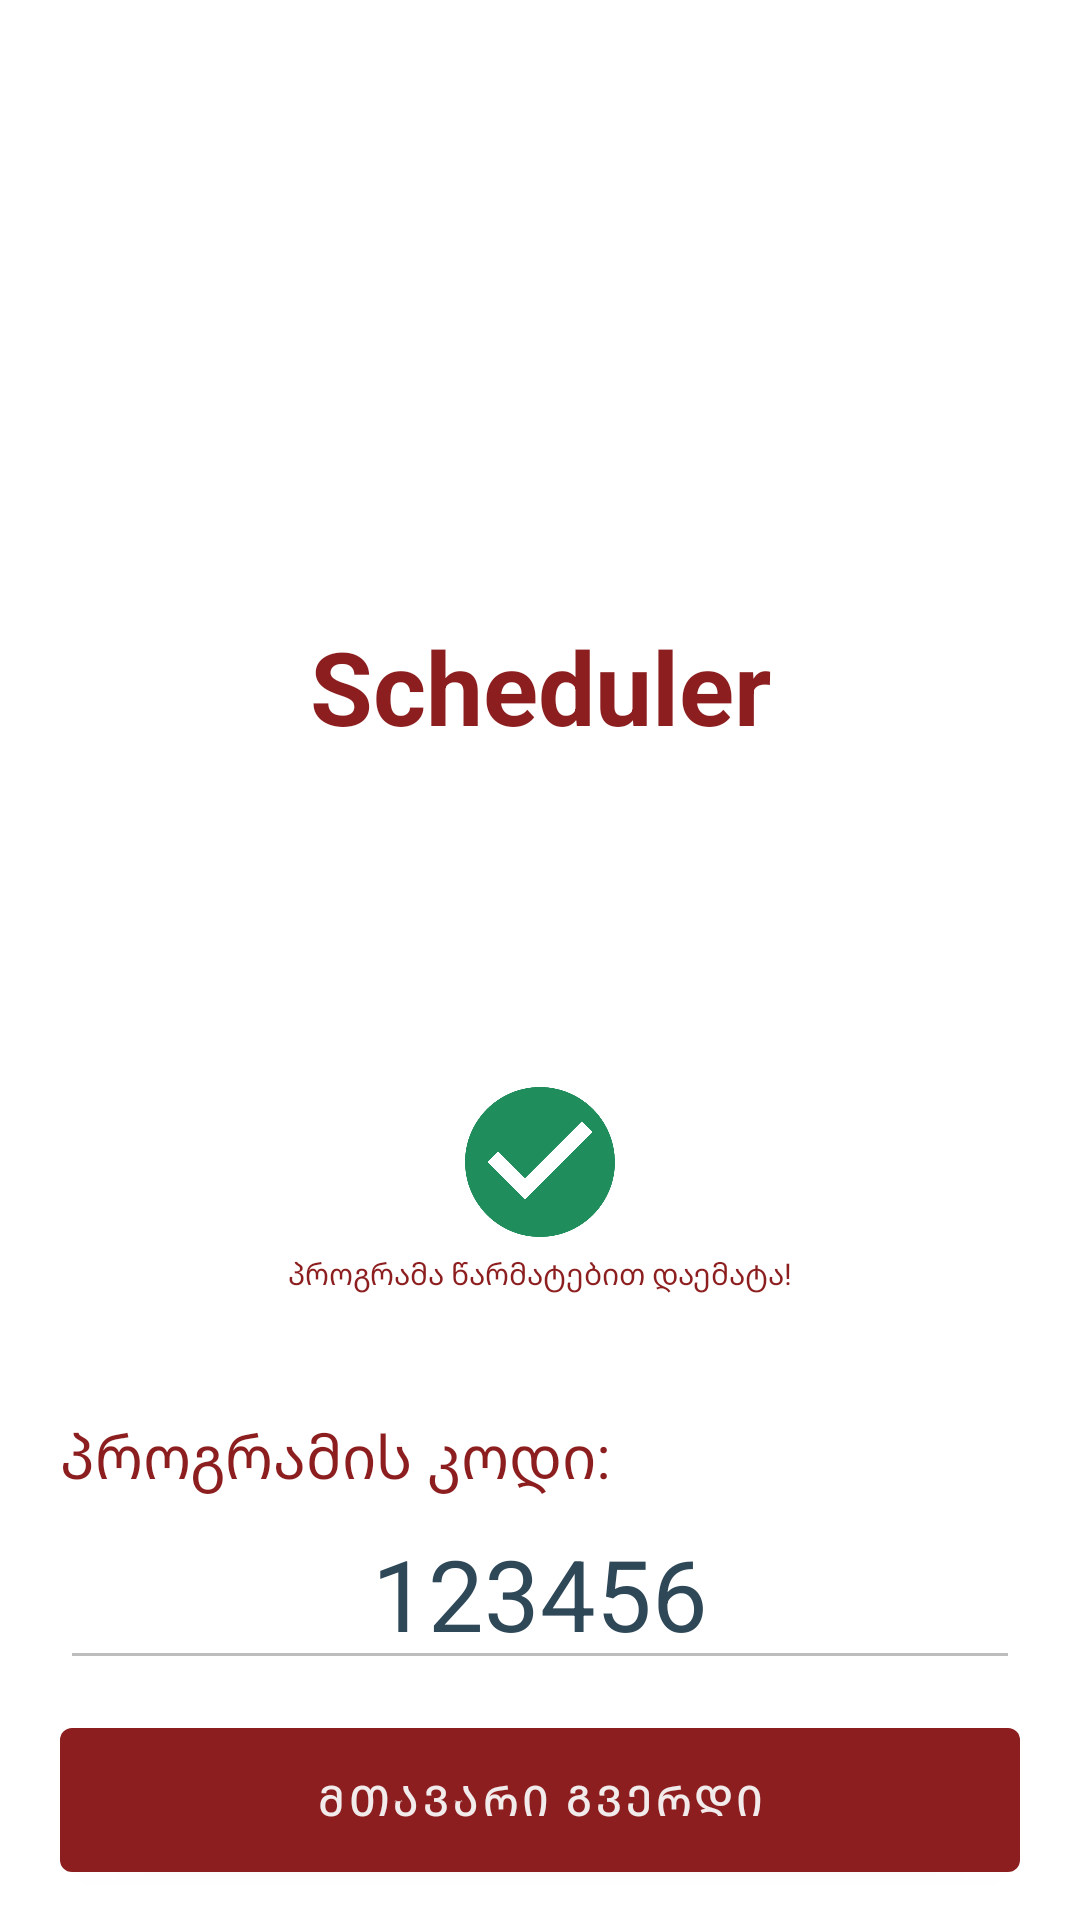

Screen size 1080 x 1920. Icon name, then its box in pixels as (x1, y1, x2, y2):
check circle: (465, 1087, 615, 1237)
